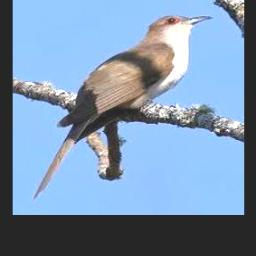Cuckoo: (33, 15, 213, 199)
